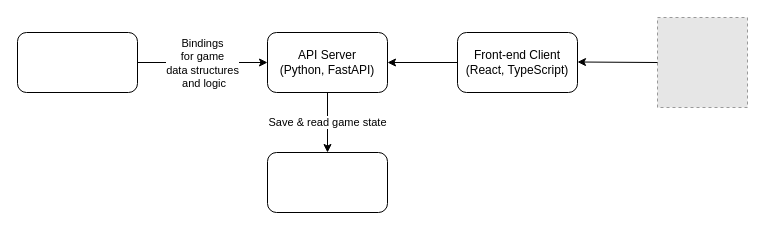
Some shapes in this 765 by 230 pixel diagram are drawn without their labels. Grey dashed boxes stand in for pictures. Here are the shapes that lost their labels. From the top down, the centre of each, then its label:
the point at 77,62: C++ Core
the point at 327,182: Redis Store
